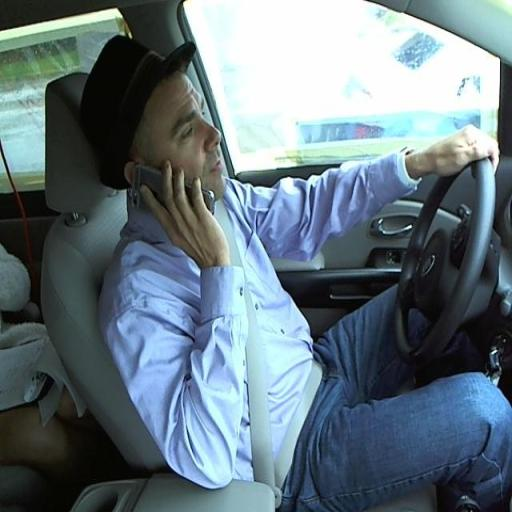talking_phone: (94, 157, 448, 483)
